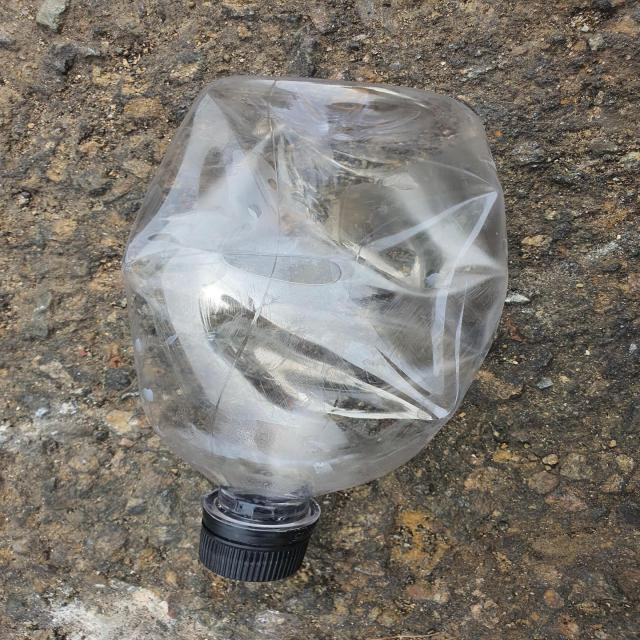plastic: (122, 76, 508, 583)
